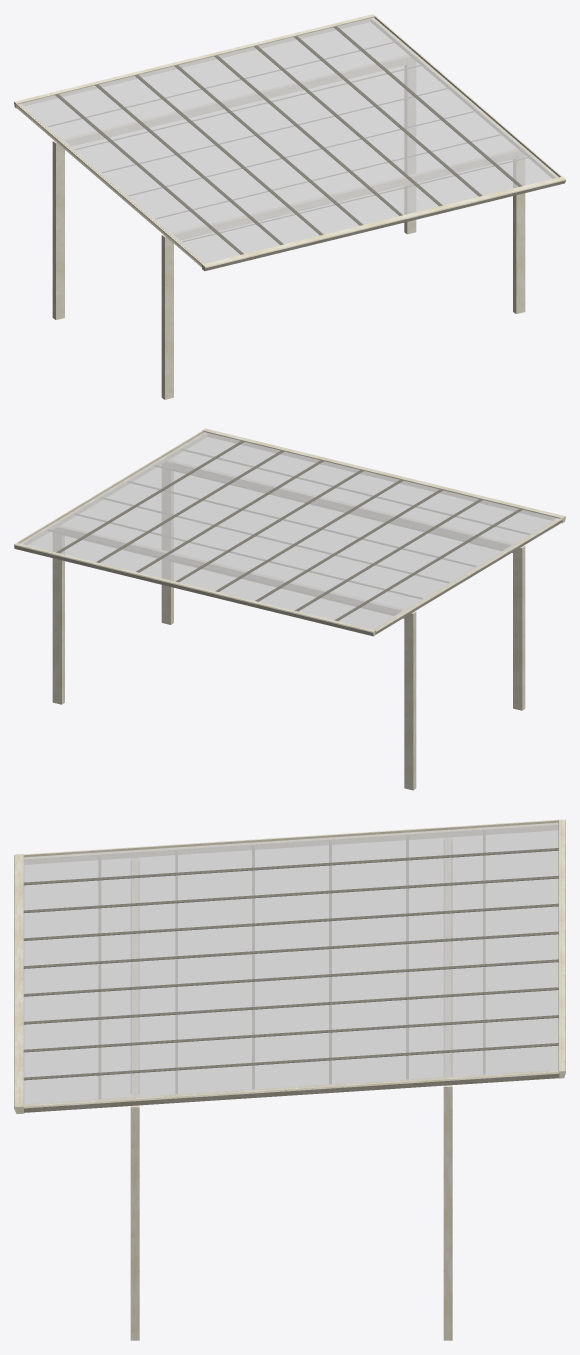
Rendered from APwide_5450-22_whitepine.fbx.
3 renders of one model, top to bottom at view 1: azimuth 30°, elevation 25°; view 2: azimuth 150°, elevation 25°; view 3: azimuth 270°, elevation 25°, orthographic. The views are drawn at different scales.
Parts seen in each view (by area): view 1: APwide_5450-22_whitepine; view 2: APwide_5450-22_whitepine; view 3: APwide_5450-22_whitepine.
Boxes of the visible parts, x1,y1,x2,y2 form: APwide_5450-22_whitepine: (14,14,565,399); APwide_5450-22_whitepine: (14,428,565,790); APwide_5450-22_whitepine: (14,819,565,1340).
Size of the model in its own units: 535 by 266 by 494.
4 materials, 3 textured.
